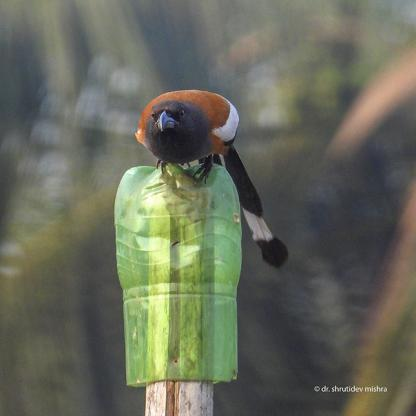Burung: (134, 90, 288, 268)
